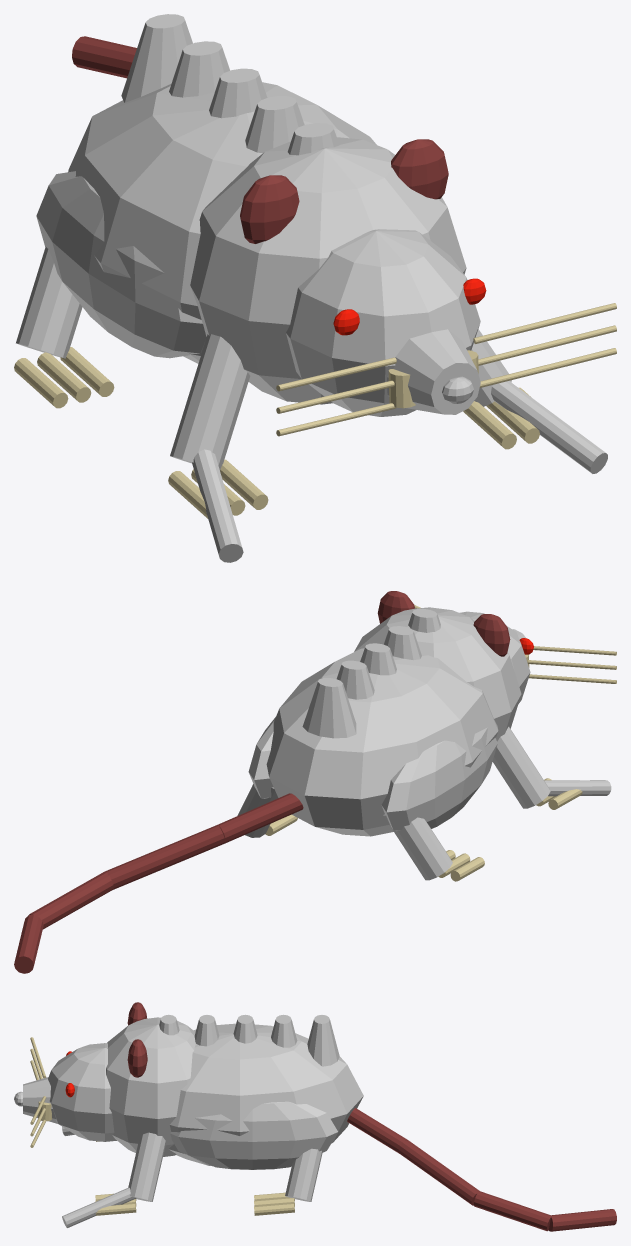
The model's file is rat.obj.
The picture shows the model from 3 angles, top to bottom: view 1: azimuth 30°, elevation 25°; view 2: azimuth 150°, elevation 25°; view 3: azimuth 270°, elevation 25°; orthographic projection. The views are drawn at different scales.
Visible parts, largest first — view 1: Rat_shoulders, Rat_body, Rat_head, Mutant_flank, Rat_leg, Rat_muzzle, Rat_leg.001, Dorsal_ridge, Long_foreclaw.001, Rat_ear, Long_foreclaw, Rat_ear.001 (+20 smaller); view 2: Rat_body, Mutant_flank, Rat_shoulders, Rat_tail.001, Rat_leg, Dorsal_ridge, Rat_leg.001, Rat_tail, Rat_tail.002, Mutant_flank.001, Rat_tail.003, Dorsal_ridge.001 (+8 smaller); view 3: Rat_body, Rat_shoulders, Mutant_flank.001, Rat_head, Rat_leg.002, Rat_tail.001, Rat_tail.002, Rat_leg.003, Dorsal_ridge, Rat_tail.003, Rat_tail, Long_foreclaw.001 (+8 smaller).
Part boxes in pixels (box(x1,y1,x2,y2)): Rat_shoulders: box(190, 137, 466, 404); Rat_body: box(68, 82, 376, 363); Rat_head: box(286, 229, 480, 416); Mutant_flank: box(36, 171, 206, 358); Rat_leg: box(170, 334, 250, 470); Rat_muzzle: box(387, 329, 480, 414); Rat_leg.001: box(16, 247, 82, 358); Dorsal_ridge: box(121, 14, 192, 102); Long_foreclaw.001: box(491, 381, 607, 473); Rat_ear: box(240, 175, 299, 243); Long_foreclaw: box(192, 449, 243, 562); Rat_ear.001: box(391, 139, 448, 199); Rat_body: box(266, 648, 498, 836); Mutant_flank: box(381, 727, 497, 831); Rat_shoulders: box(354, 607, 521, 741); Rat_tail.001: box(104, 825, 225, 889); Rat_leg: box(492, 726, 550, 808); Dorsal_ridge: box(302, 678, 356, 738); Rat_leg.001: box(383, 814, 452, 880); Rat_tail: box(217, 793, 303, 843); Rat_tail.002: box(28, 872, 113, 929); Mutant_flank.001: box(248, 717, 275, 798); Rat_tail.003: box(14, 914, 43, 973); Dorsal_ridge.001: box(336, 660, 374, 699); Rat_body: box(168, 1023, 363, 1166); Rat_shoulders: box(106, 1017, 195, 1156); Mutant_flank.001: box(170, 1101, 337, 1169); Rat_head: box(48, 1043, 116, 1141); Rat_leg.002: box(128, 1132, 165, 1201); Rat_tail.001: box(398, 1140, 480, 1205); Rat_tail.002: box(474, 1191, 551, 1231); Rat_leg.003: box(285, 1148, 322, 1201); Dorsal_ridge: box(307, 1015, 339, 1066); Rat_tail.003: box(549, 1209, 616, 1231); Rat_tail: box(347, 1108, 407, 1153); Long_foreclaw.001: box(62, 1187, 136, 1227).
Bounding box in the file's own units: 1.48 × 0.9819 × 3.31.
